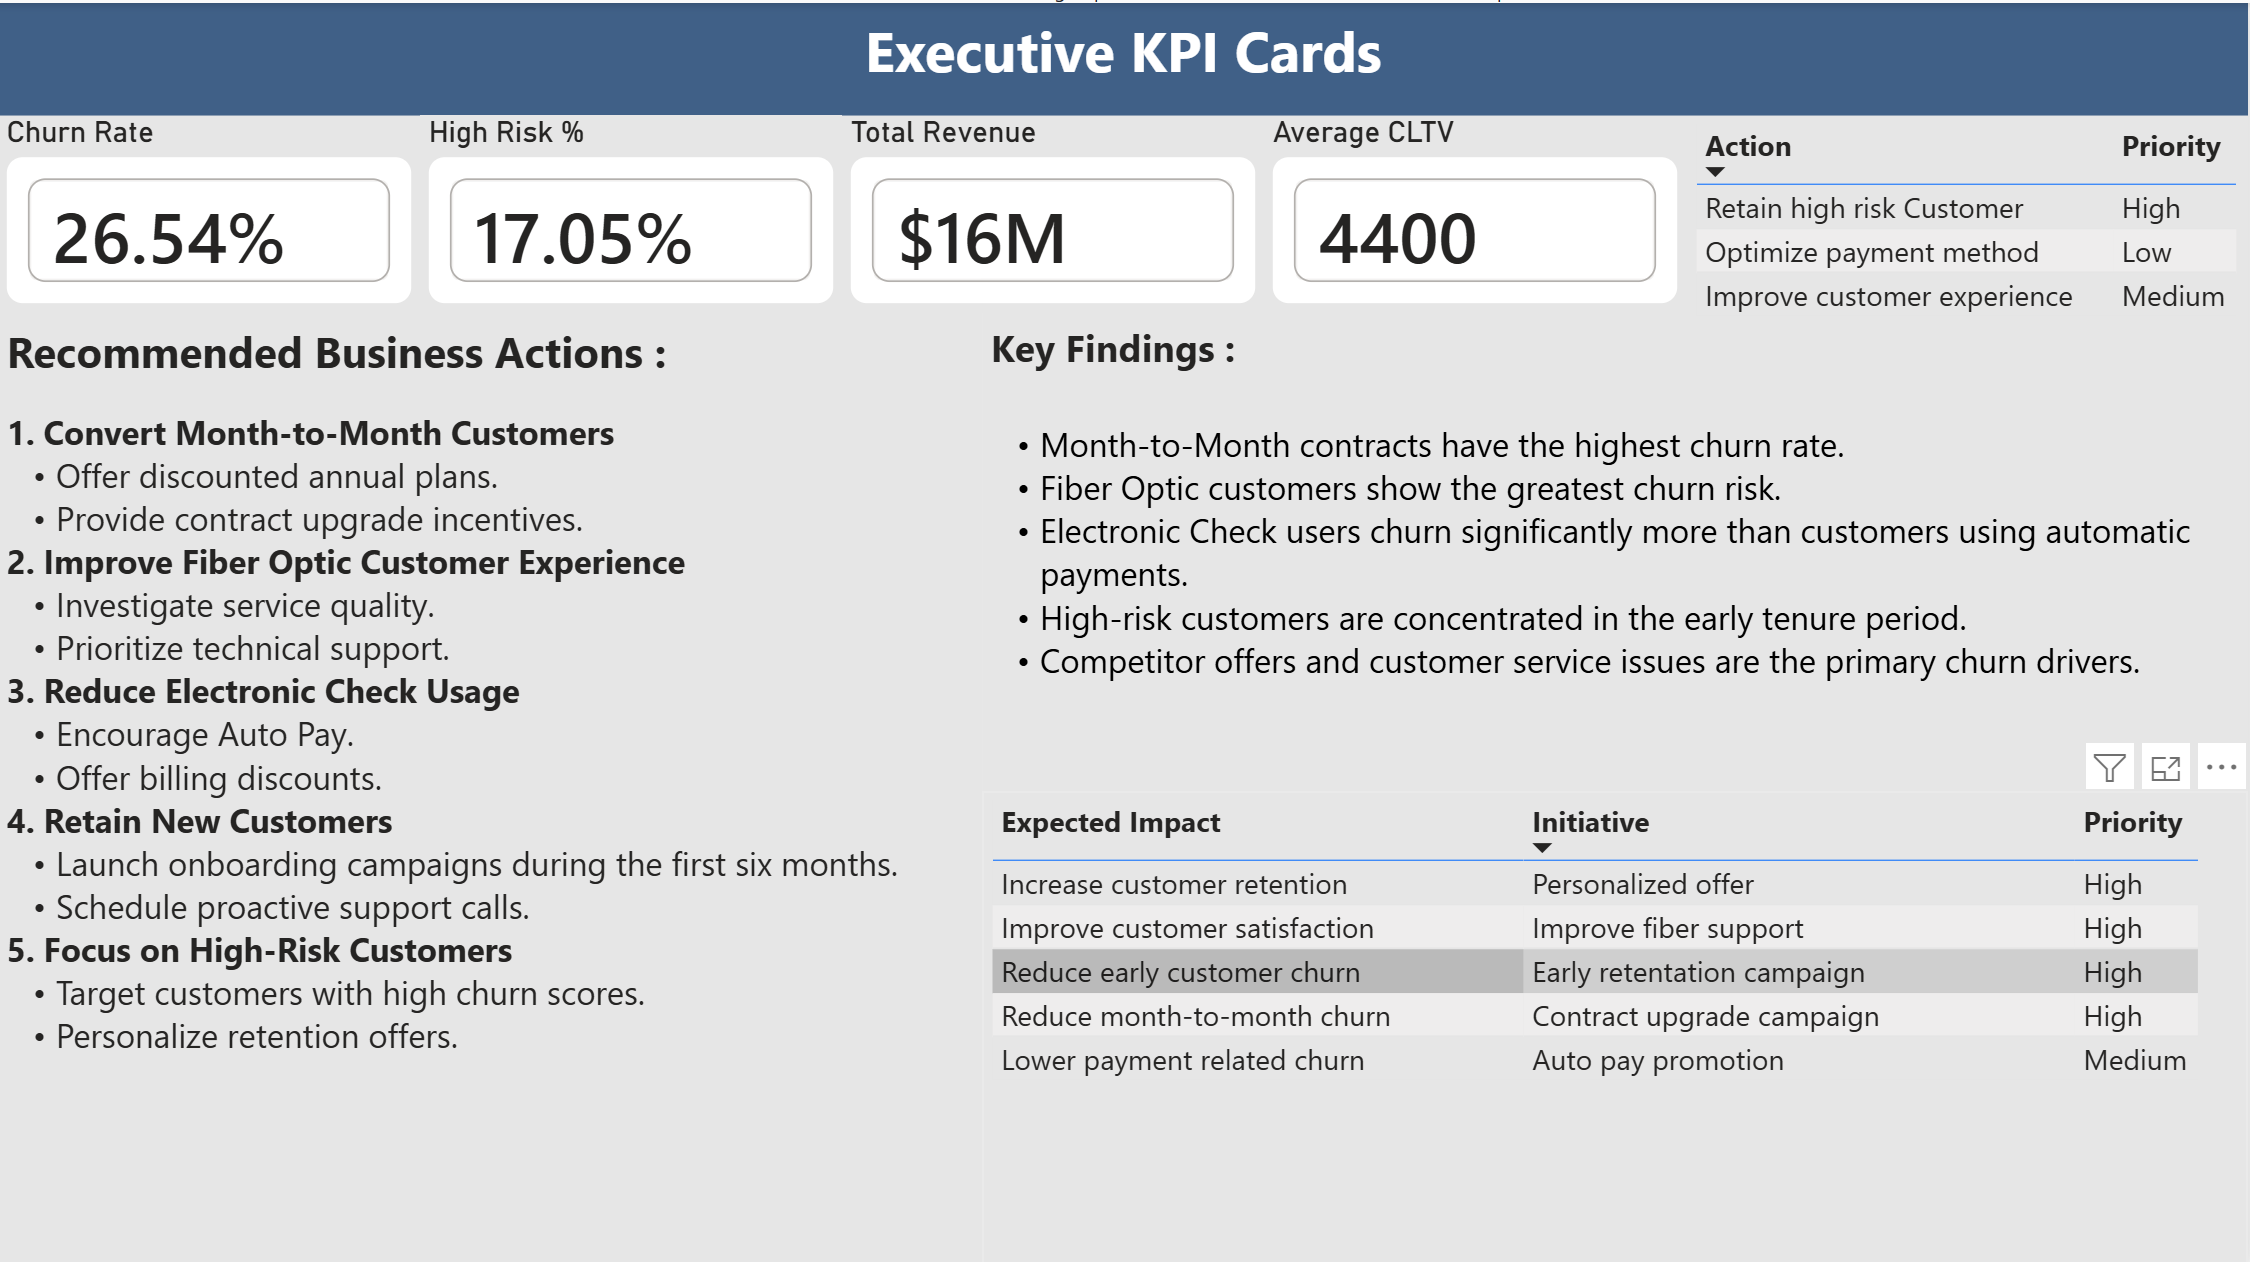

The dashboard page shown, as its layout file describes it:
{"tool":"powerbi","page":{"name":"Executive KPI Cards","canvas":[1280,720],"ordinal":4},"visuals":[{"type":"cardVisual","title":"Churn Rate","fields":{"Data":["Measures_Table.Churn Rate %"]},"box":[0,64,240,112],"z":0},{"type":"cardVisual","title":"Total Revenue","fields":{"Data":["Measures_Table.Total Revenue"]},"box":[480,64,240,112],"z":1000},{"type":"cardVisual","title":"Average CLTV","fields":{"Data":["Measures_Table.Average CLTV"]},"box":[720,64,240,112],"z":2000},{"type":"textbox","box":[560,176,720,272],"z":4000},{"type":"textbox","box":[0,176,560,544],"z":5000},{"type":"tableEx","fields":{"Values":["Business impact.Expected Impact ","Business impact.Initiative","Business impact.Priority"]},"box":[560,448,720,272],"z":6000},{"type":"tableEx","fields":{"Values":["Priority matrix.Action","Priority matrix.Priority"]},"box":[960,64,320,128],"z":7000},{"type":"textbox","box":[0,0,1280,64],"z":8000},{"type":"cardVisual","title":"High Risk %","fields":{"Data":["Measures_Table.High Risk %"]},"box":[240,64,240,112],"z":9000}]}

Visuals, with their boxes in screenshot pixels (x1, y1, x2, y2), scaled from the page's 1280x720 canvas onto the 2250x1262 screenshot:
"Churn Rate" cardVisual: <box>0,112,422,308</box>
"Total Revenue" cardVisual: <box>844,112,1266,308</box>
"Average CLTV" cardVisual: <box>1266,112,1688,308</box>
textbox: <box>984,308,2249,785</box>
textbox: <box>0,308,984,1261</box>
tableEx - Business impact.Expected Impact  x Business impact.Initiative: <box>984,785,2249,1261</box>
tableEx - Priority matrix.Action x Priority matrix.Priority: <box>1688,112,2249,337</box>
textbox: <box>0,0,2249,112</box>
"High Risk %" cardVisual: <box>422,112,844,308</box>
